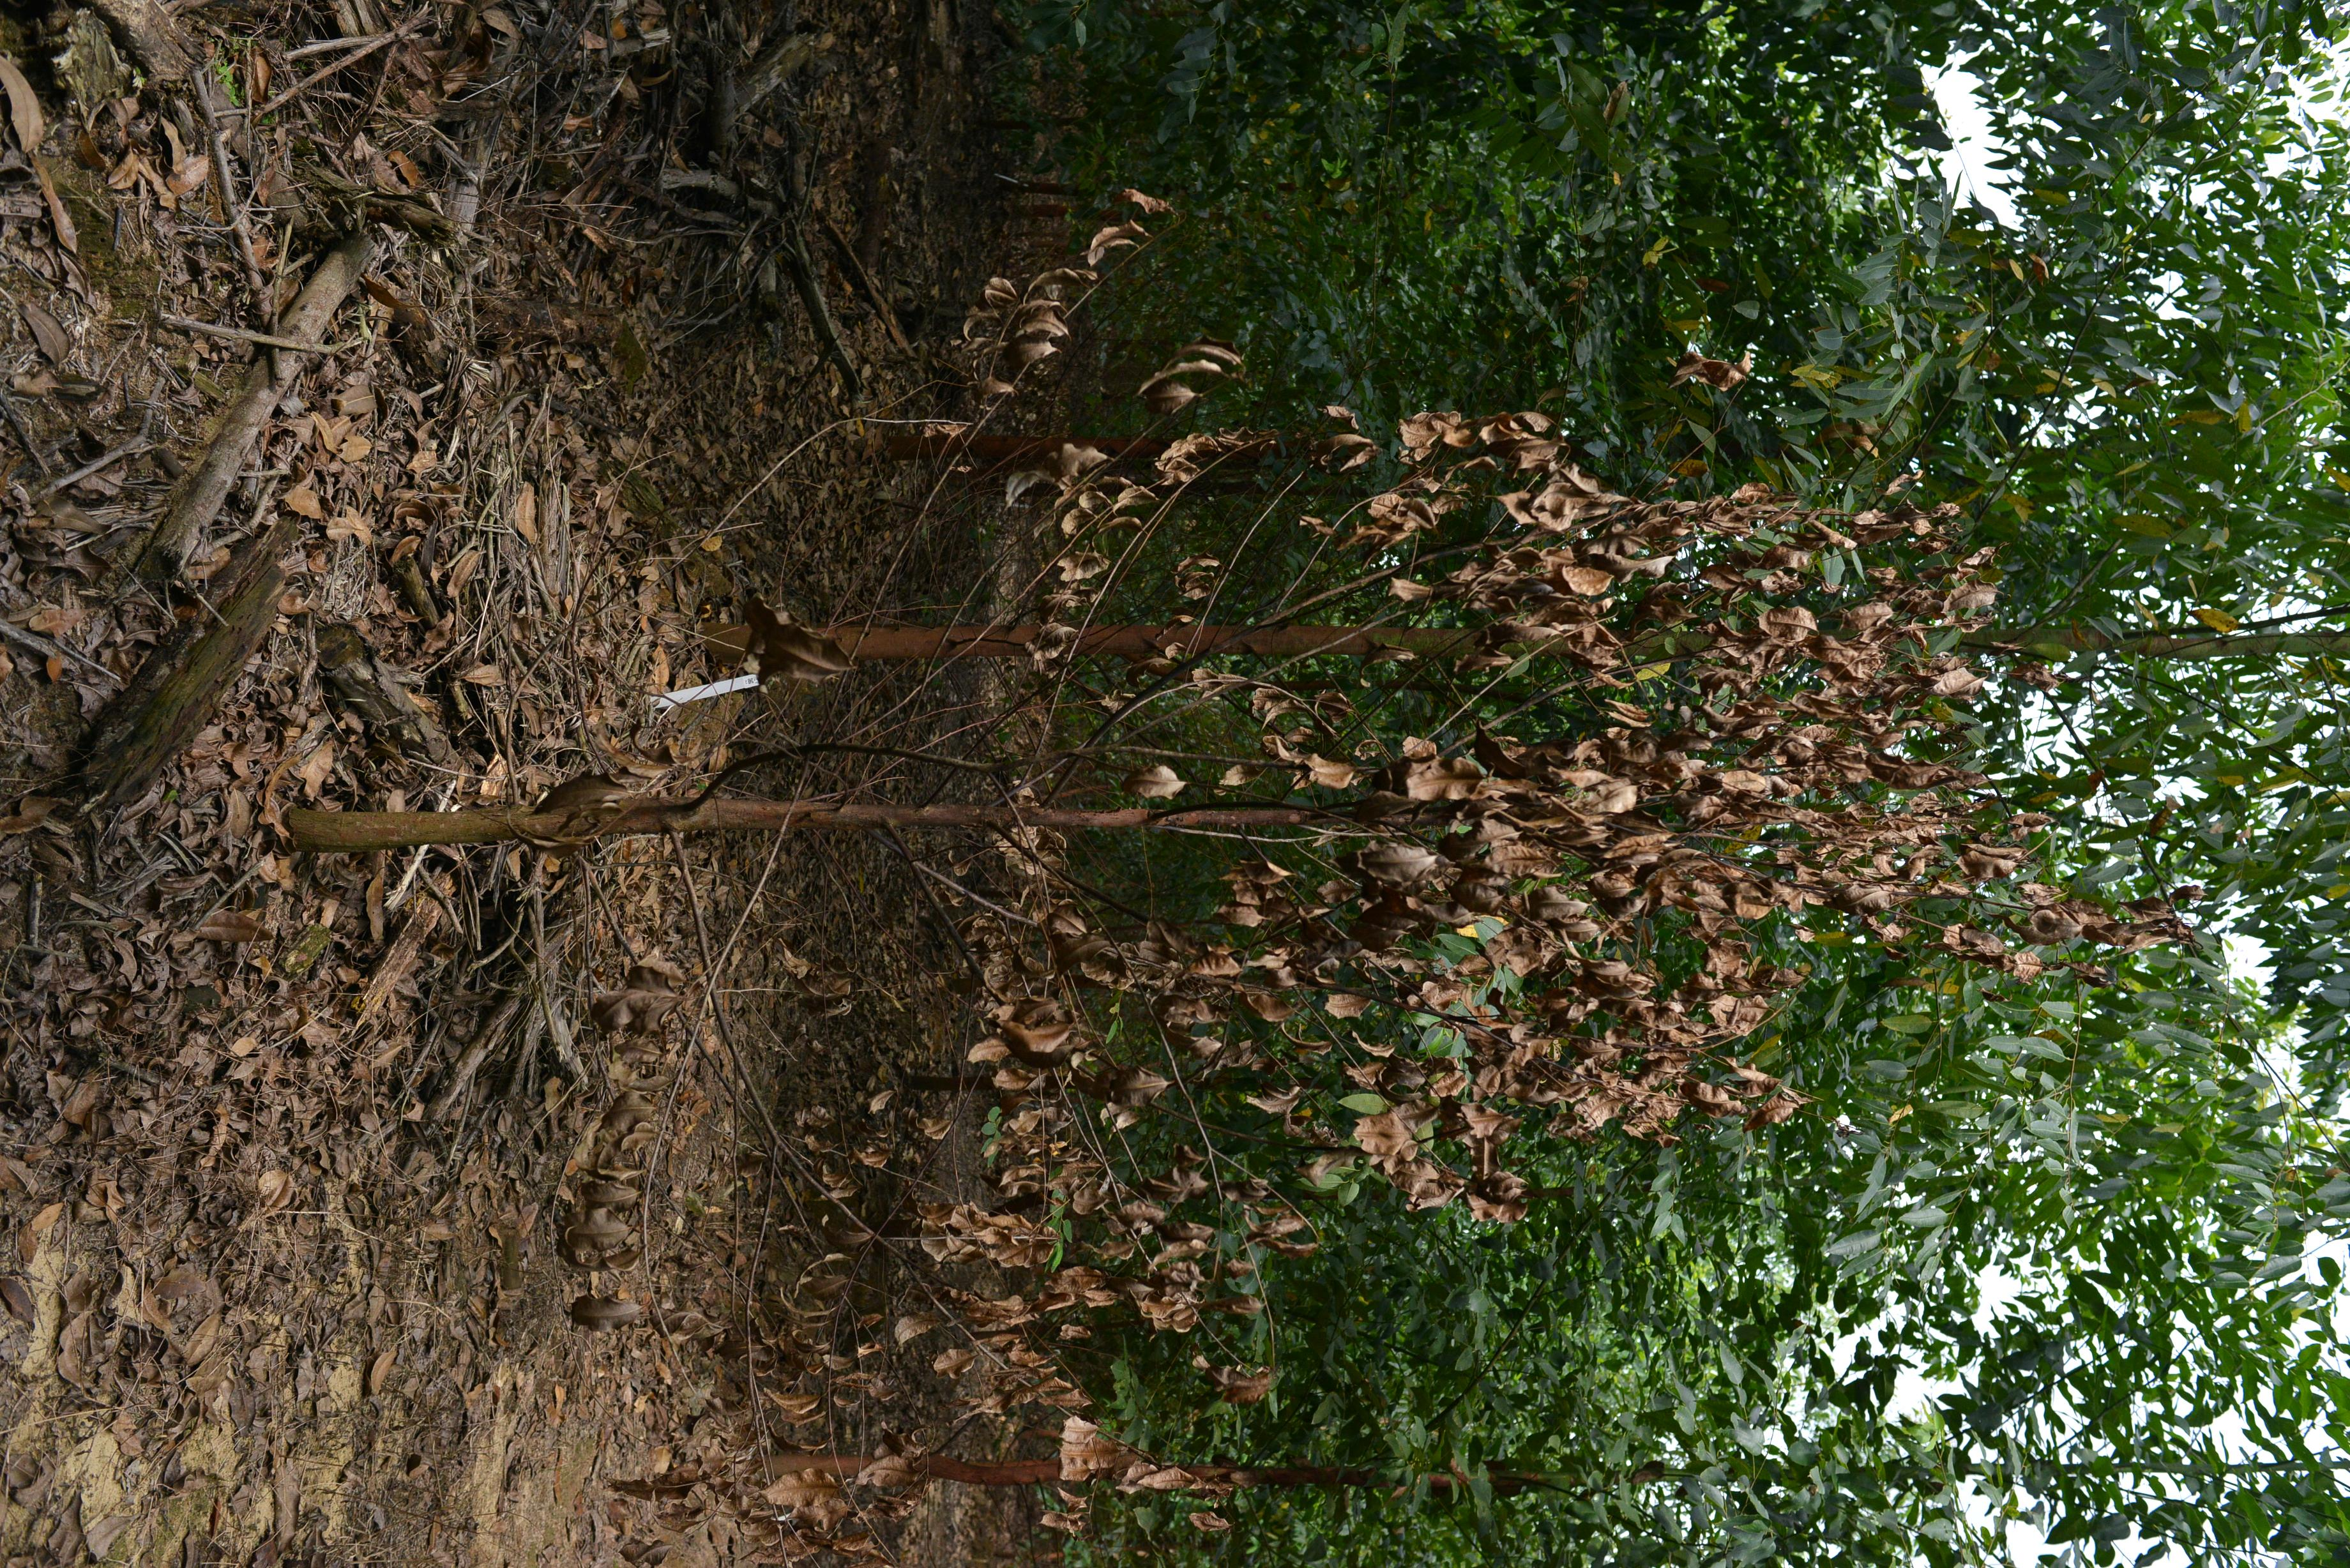Wither Tree Parts: (275, 179, 2194, 1327)
